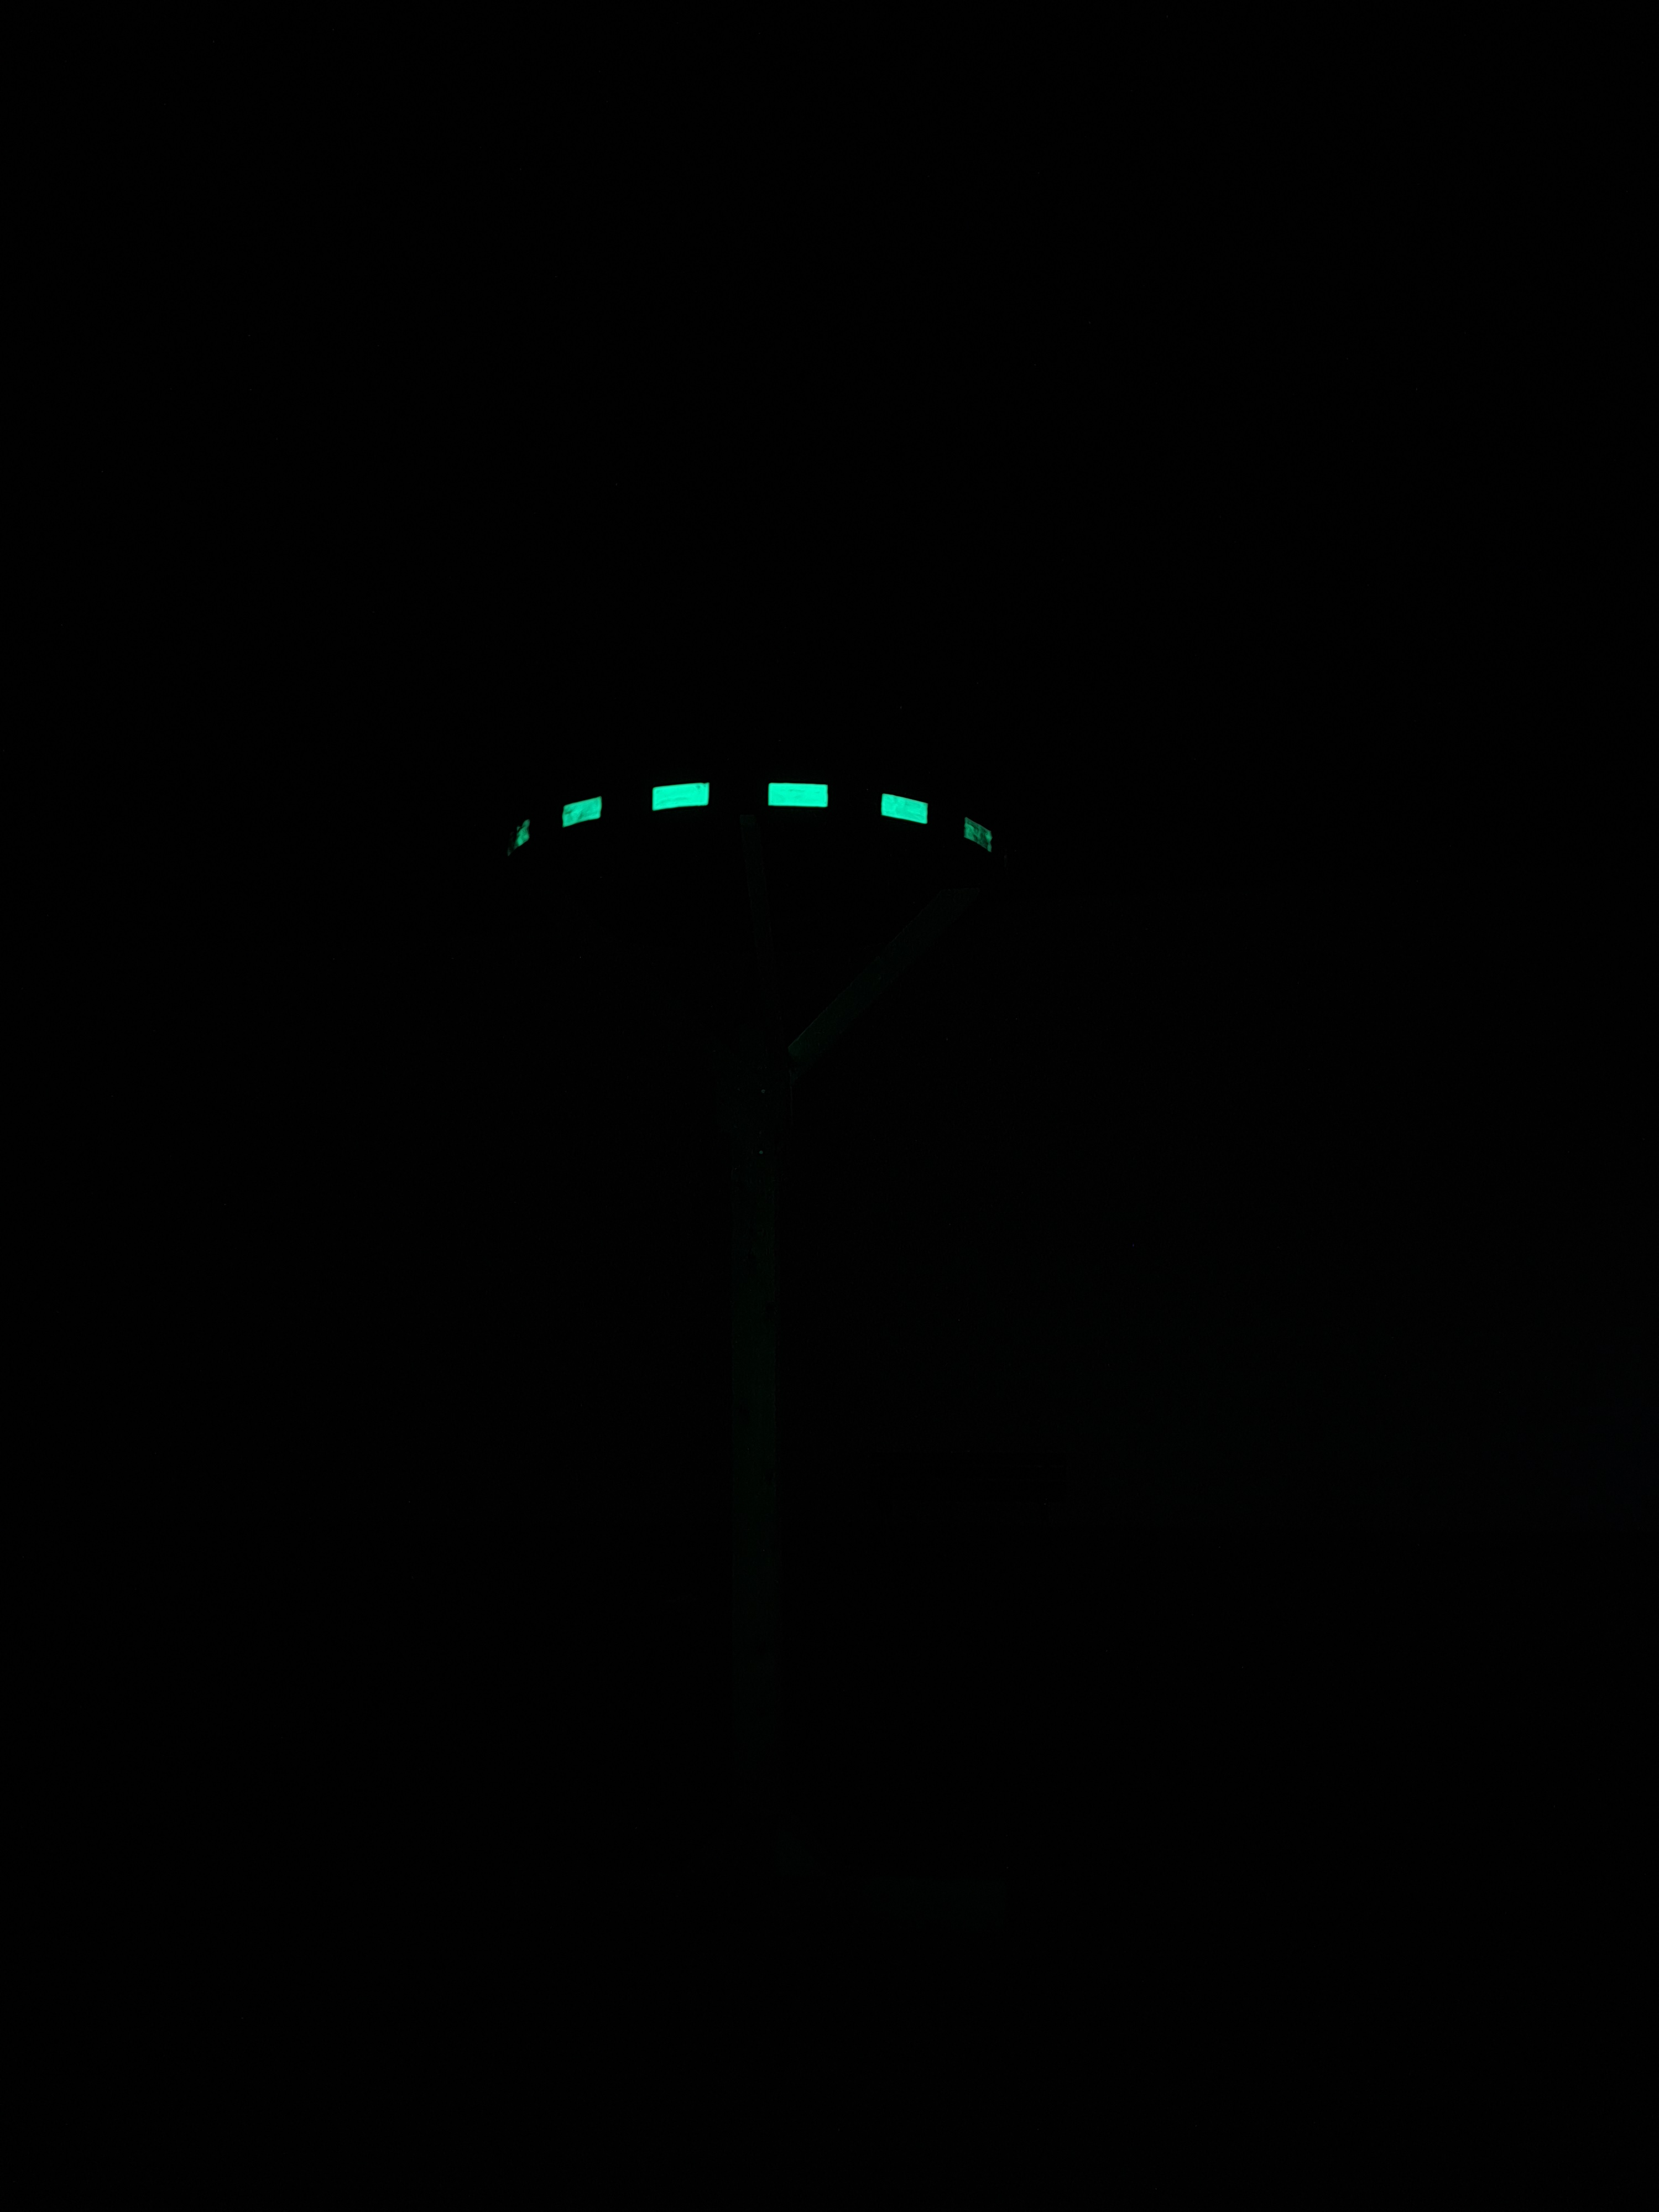hoop: (504, 754, 1016, 895)
